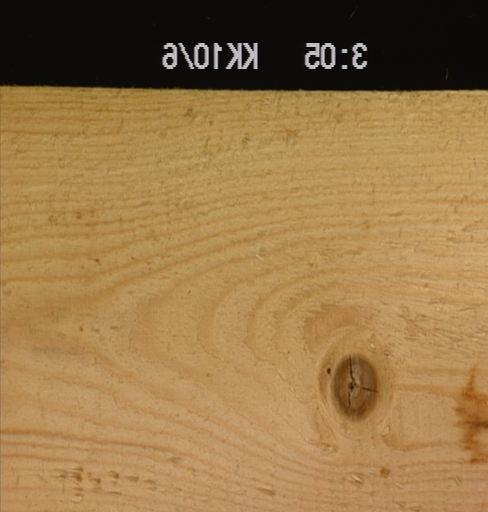sound_knot: (329, 352, 379, 422)
